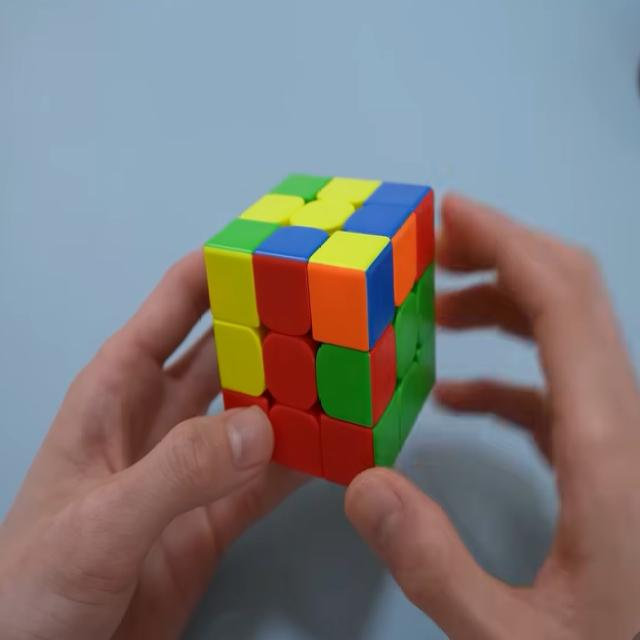Cubo-No-resuelto: (205, 175, 434, 483)
